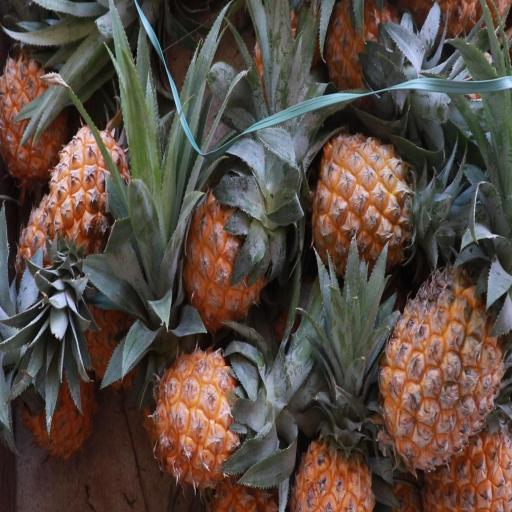Pineapple - v8 v1: (377, 257, 512, 483), (310, 126, 448, 292), (152, 340, 287, 496), (181, 161, 289, 333), (40, 118, 150, 284), (292, 366, 382, 512), (0, 38, 84, 190)
